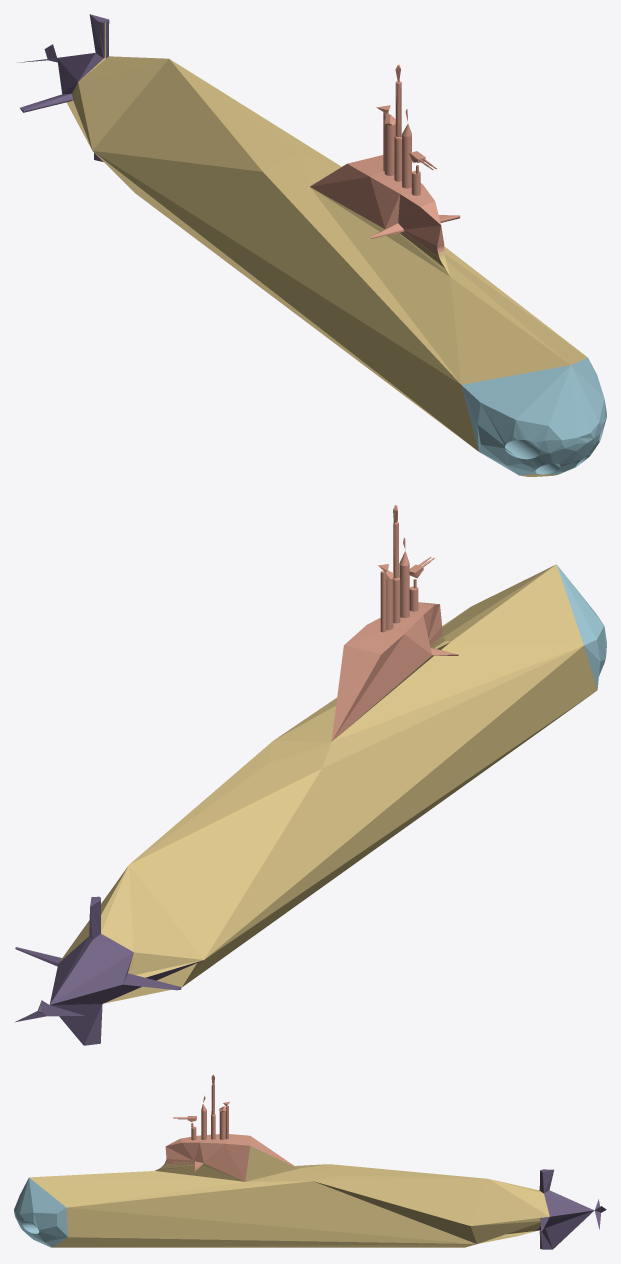
The picture shows the model from 3 angles, top to bottom: view 1: azimuth 30°, elevation 25°; view 2: azimuth 150°, elevation 25°; view 3: azimuth 270°, elevation 25°; orthographic projection. The views are drawn at different scales.
Parts seen in each view (by area): view 1: geometry_0; view 2: geometry_0; view 3: geometry_0.
Part boxes in pixels (box(x1,y1,x2,y2)): geometry_0: box(17, 14, 606, 476); geometry_0: box(15, 505, 606, 1045); geometry_0: box(14, 1074, 606, 1249).
Size of the model in its own units: 1.07 by 1.95 by 6.03.
